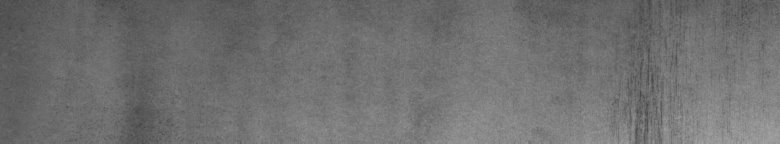ka: (624, 36, 680, 136)
